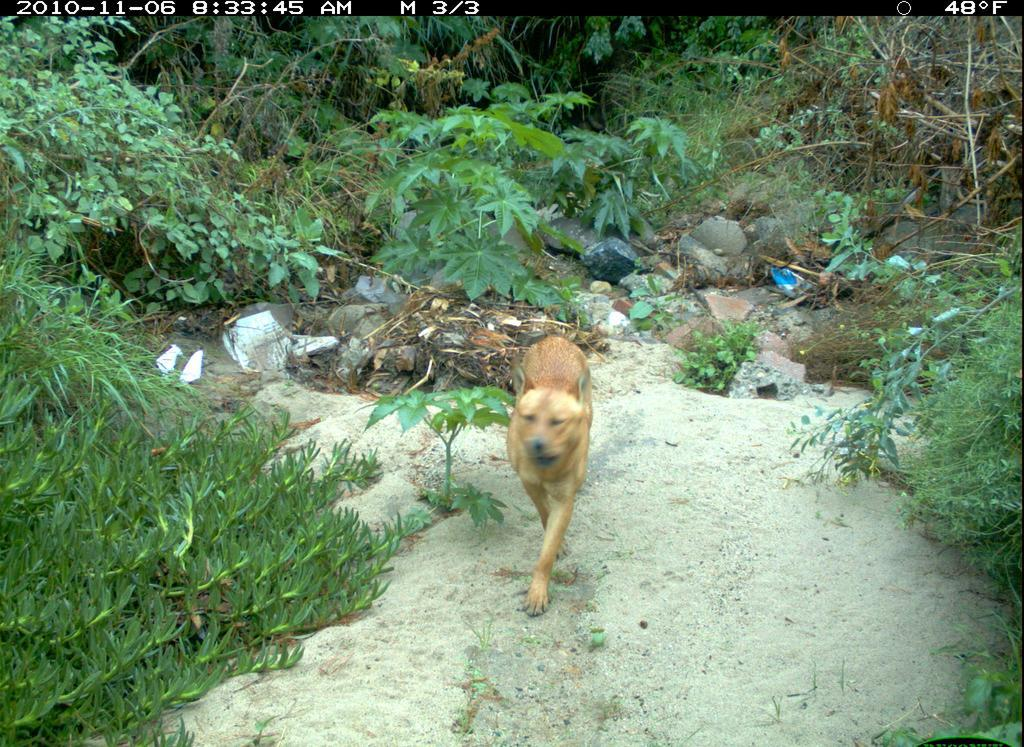dog: (488, 314, 643, 630)
